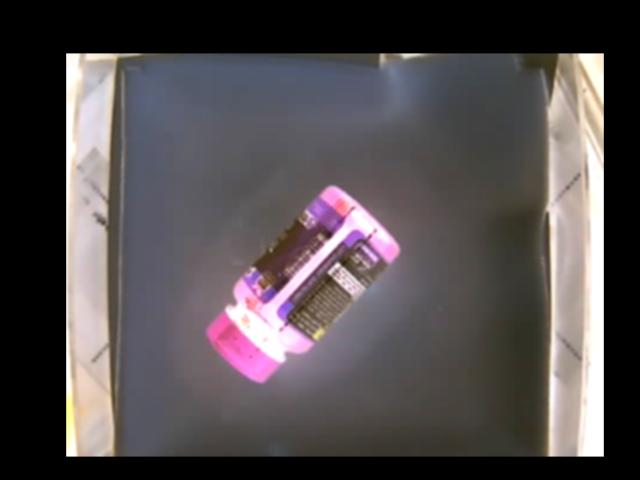Bottle: (206, 186, 400, 387)
